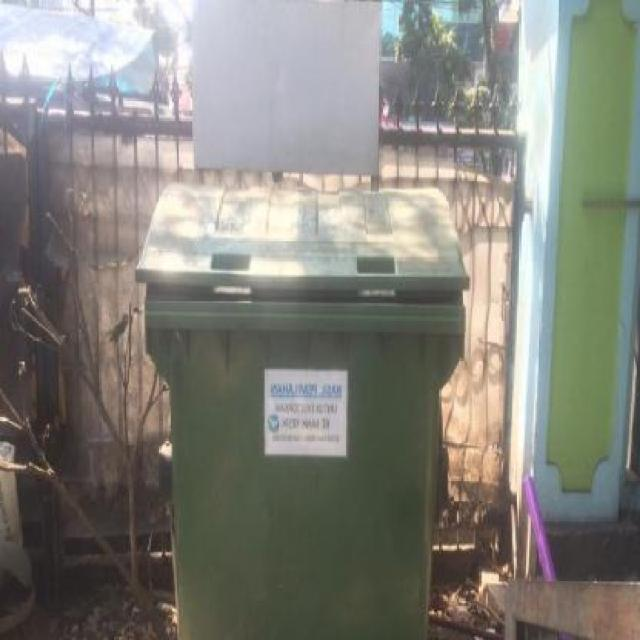garbage container: (132, 172, 477, 638)
